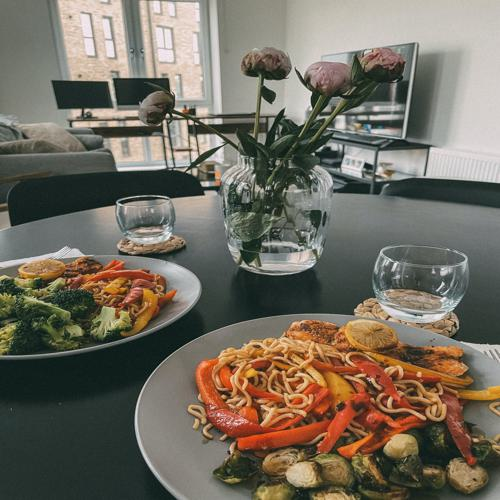vaso: (374, 242, 473, 323), (113, 196, 182, 249)
